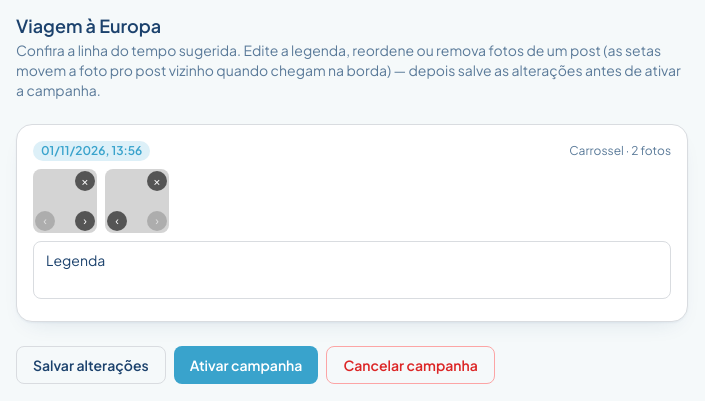
Test: CampaignTimelinePage › removing a photo leaves the post with a single photo instead of a carousel
expect the text "Carrossel · 2 fotos" is shown: met, box [569,143,671,159]
Click the button named "Remover foto deste post" at (85, 181), box [75,171,95,191]
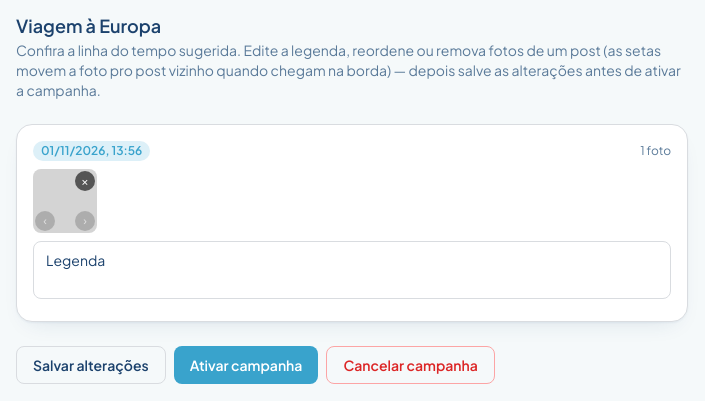
expect the text "1 foto" is shown: met, box [640,143,671,159]
